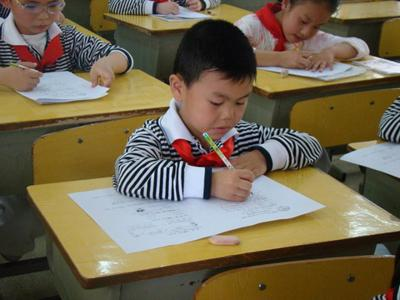person: (114, 19, 323, 203)
